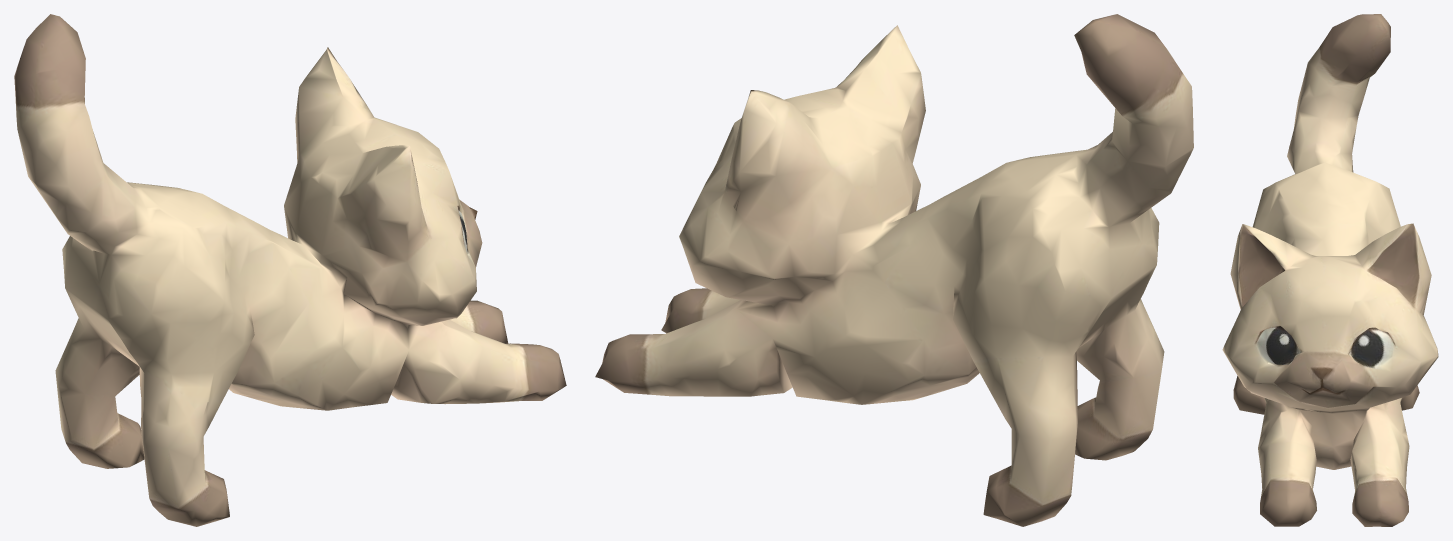
Rendered from cat-stretch.glb.
3 views of the same model, side by side, from view 1: azimuth 30°, elevation 25°; view 2: azimuth 150°, elevation 25°; view 3: azimuth 270°, elevation 25° (orthographic). The views are drawn at different scales.
Parts seen in each view (by area): view 1: tripo_node_aef3419a-01f0-4045-8494-979d26e74d3f; view 2: tripo_node_aef3419a-01f0-4045-8494-979d26e74d3f; view 3: tripo_node_aef3419a-01f0-4045-8494-979d26e74d3f.
Boxes of the visible parts, x1=… form: tripo_node_aef3419a-01f0-4045-8494-979d26e74d3f: x1=14, y1=14, x2=566, y2=526; tripo_node_aef3419a-01f0-4045-8494-979d26e74d3f: x1=595, y1=14, x2=1193, y2=526; tripo_node_aef3419a-01f0-4045-8494-979d26e74d3f: x1=1222, y1=14, x2=1438, y2=526.
Size of the model in its own units: 1 by 0.8665 by 0.4672.
Materials: 1 (1 with a texture image).
